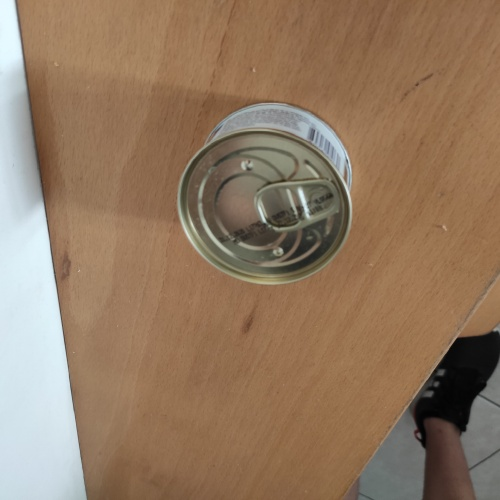tonno: (174, 96, 356, 292)
